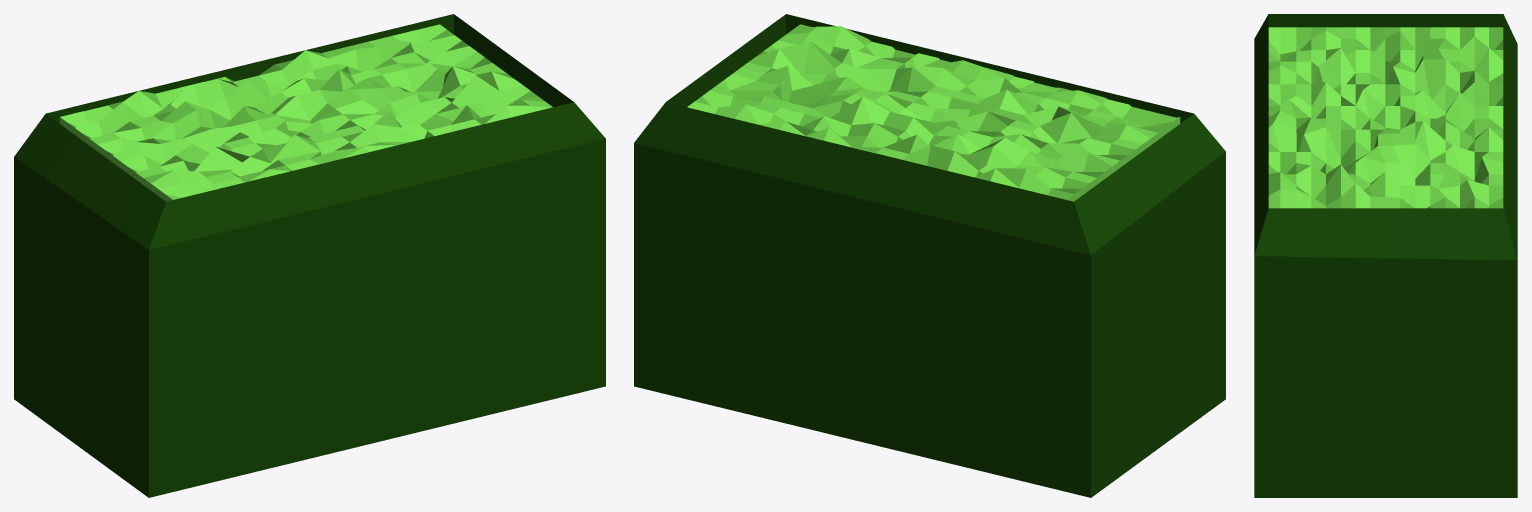
The model's file is esa.fbx.
The picture shows the model from 3 angles, left to right: view 1: azimuth 30°, elevation 25°; view 2: azimuth 150°, elevation 25°; view 3: azimuth 270°, elevation 25°; orthographic projection. The views are drawn at different scales.
Visible parts, largest first — view 1: 立方体; view 2: 立方体; view 3: 立方体.
Part boxes in pixels (x1,y1,x2,y2): 立方体: [14, 14, 605, 497]; 立方体: [634, 14, 1225, 497]; 立方体: [1254, 14, 1517, 497].
Size of the model in its own units: 200 by 125 by 102.
